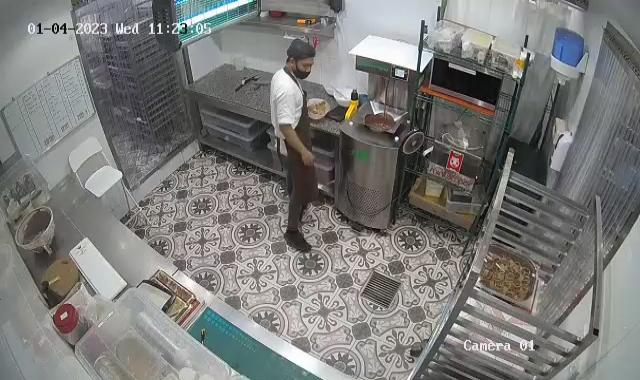no_hairnet: (285, 40, 317, 64)
